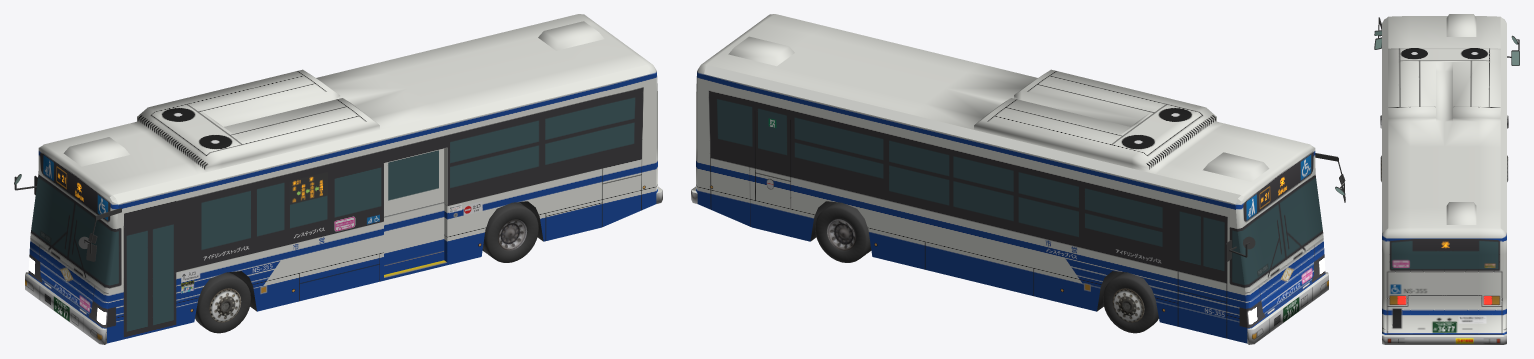
File: nagoyacitybus.fbx
The picture shows the model from 3 angles, left to right: view 1: azimuth 30°, elevation 25°; view 2: azimuth 150°, elevation 25°; view 3: azimuth 270°, elevation 25°; orthographic projection. The views are drawn at different scales.
Visible parts, largest first — view 1: Cube.004; view 2: Cube.004; view 3: Cube.004.
Boxes of the visible parts, left/top/right/bottom form: Cube.004: left=14, top=14, right=662, bottom=344; Cube.004: left=691, top=14, right=1345, bottom=344; Cube.004: left=1374, top=14, right=1519, bottom=344.
Bounding box in the file's own units: 1088 × 311 × 290.
Materials: 1 (1 with a texture image).
